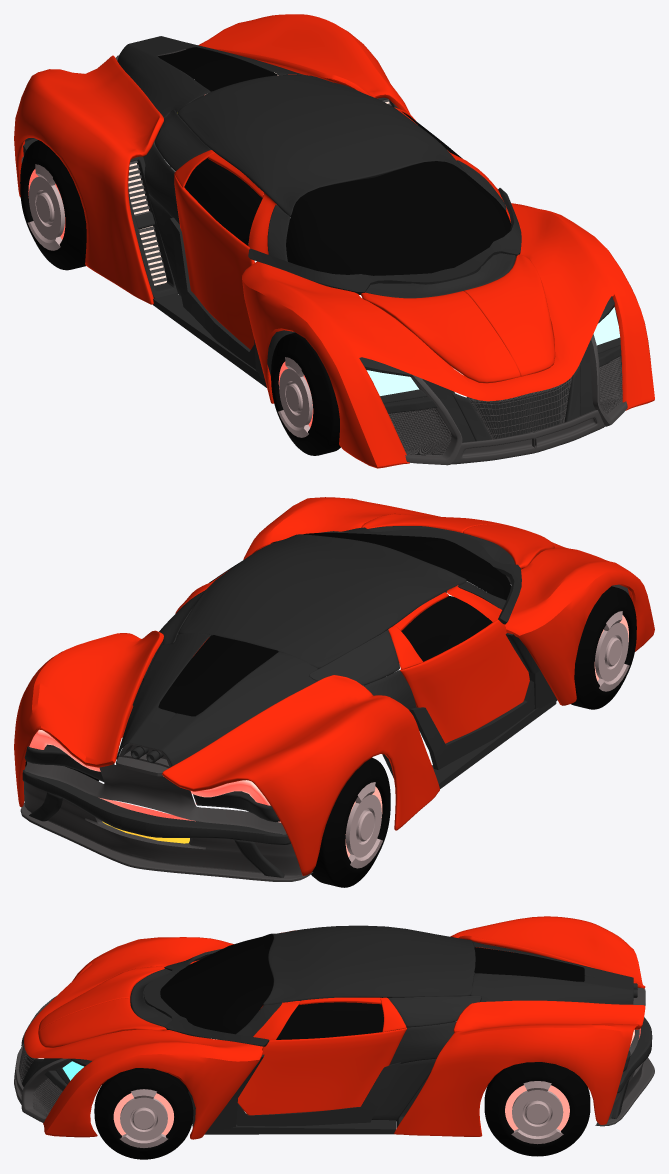
Rendered from neon.glb.
3 renders of one model, top to bottom at view 1: azimuth 30°, elevation 25°; view 2: azimuth 150°, elevation 25°; view 3: azimuth 270°, elevation 25°, orthographic. The views are drawn at different scales.
Parts seen in each view (by area): view 1: Plane.021_17, Plane.001_1, Plane.010_8, Plane.013_18, Plane.007_6, Plane.005_9, Plane.019_16, Plane.003_2, Cylinder.001_43, Plane.038_52, Cylinder.006_46, Plane.022_19 (+23 smaller); view 2: Plane.013_18, Plane.001_1, Plane.021_17, Plane.005_9, Plane.003_2, Plane.019_16, Cube.005_38, Plane.016_35, Plane.014_13, Cube.001_41, Cylinder.006_46, Plane.010_8 (+18 smaller); view 3: Plane.005_9, Plane.021_17, Plane.001_1, Plane.019_16, Plane.010_8, Plane.013_18, Cylinder.006_46, Plane.007_6, Plane.003_2, Cylinder.001_43, Plane.011_11, Plane.020_28 (+20 smaller).
Part boxes in pixels (x1=…): Plane.021_17: x1=242, y1=203, x2=654, y2=468; Plane.001_1: x1=177, y1=75, x2=466, y2=216; Plane.010_8: x1=286, y1=161, x2=511, y2=275; Plane.013_18: x1=14, y1=55, x2=163, y2=304; Plane.007_6: x1=361, y1=254, x2=555, y2=383; Plane.005_9: x1=198, y1=14, x2=410, y2=114; Plane.019_16: x1=174, y1=174, x2=515, y2=349; Plane.003_2: x1=117, y1=36, x2=305, y2=118; Cylinder.001_43: x1=271, y1=332, x2=340, y2=455; Plane.038_52: x1=248, y1=188, x2=521, y2=294; Cylinder.006_46: x1=20, y1=140, x2=86, y2=270; Plane.022_19: x1=388, y1=306, x2=627, y2=465; Plane.013_18: x1=162, y1=675, x2=439, y2=875; Plane.001_1: x1=178, y1=534, x2=466, y2=668; Plane.021_17: x1=243, y1=497, x2=654, y2=705; Plane.005_9: x1=14, y1=630, x2=163, y2=807; Plane.003_2: x1=116, y1=633, x2=317, y2=766; Plane.019_16: x1=193, y1=619, x2=529, y2=743; Cube.005_38: x1=20, y1=782, x2=312, y2=881; Plane.016_35: x1=24, y1=762, x2=286, y2=834; Plane.014_13: x1=158, y1=635, x2=278, y2=716; Cube.001_41: x1=22, y1=766, x2=290, y2=844; Cylinder.006_46: x1=25, y1=758, x2=390, y2=887; Plane.010_8: x1=304, y1=532, x2=510, y2=600; Plane.005_9: x1=394, y1=1000, x2=645, y2=1136; Plane.021_17: x1=24, y1=937, x2=262, y2=1139; Plane.001_1: x1=263, y1=925, x2=475, y2=1005; Plane.019_16: x1=237, y1=1005, x2=406, y2=1115; Plane.010_8: x1=160, y1=934, x2=273, y2=1034; Plane.013_18: x1=450, y1=916, x2=645, y2=988; Cylinder.006_46: x1=484, y1=974, x2=590, y2=1156; Plane.007_6: x1=38, y1=966, x2=166, y2=1047; Plane.003_2: x1=470, y1=941, x2=633, y2=1004; Cylinder.001_43: x1=94, y1=997, x2=193, y2=1159; Plane.011_11: x1=276, y1=1002, x2=383, y2=1039; Plane.020_28: x1=236, y1=1062, x2=400, y2=1126.
Size of the model in its own units: 4.05 by 2.3 by 8.73.
